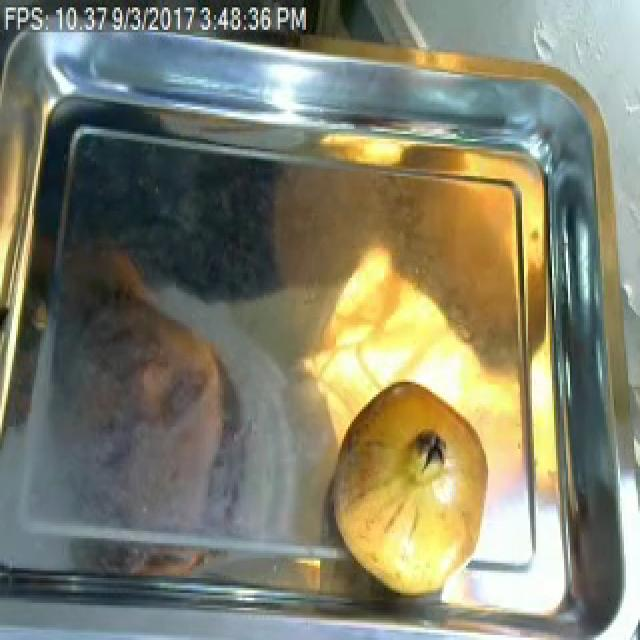fruit: (320, 365, 502, 610)
